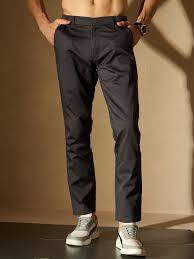trouser: (54, 12, 146, 227)
